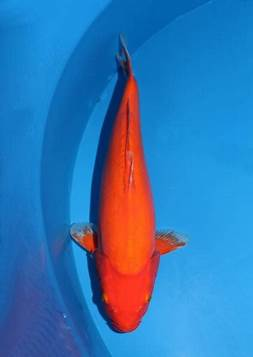red: (68, 34, 187, 332)
